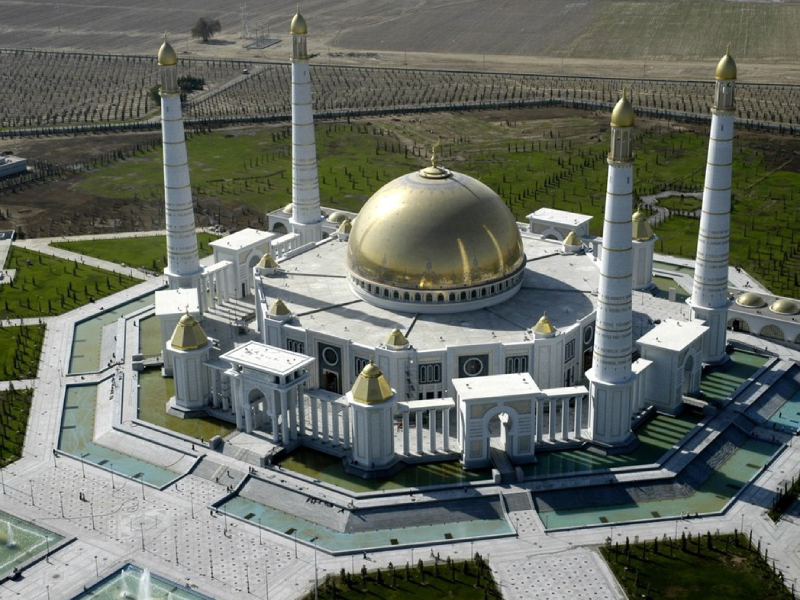Mosque: (106, 10, 761, 511)
